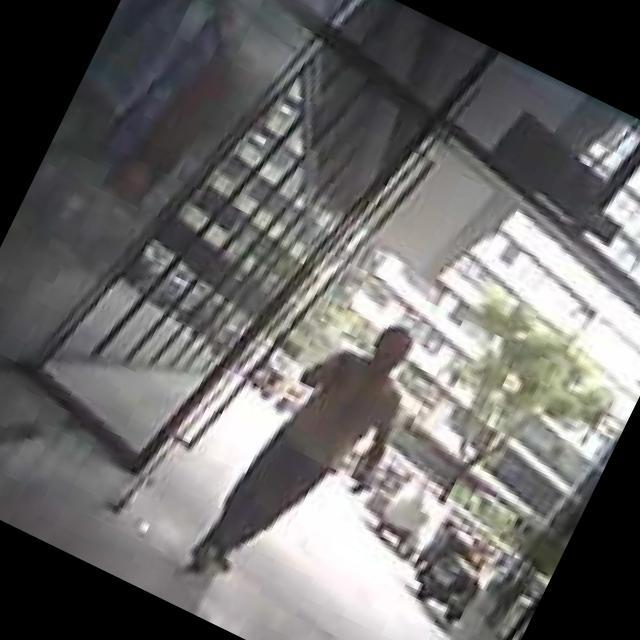person: (178, 284, 437, 626)
